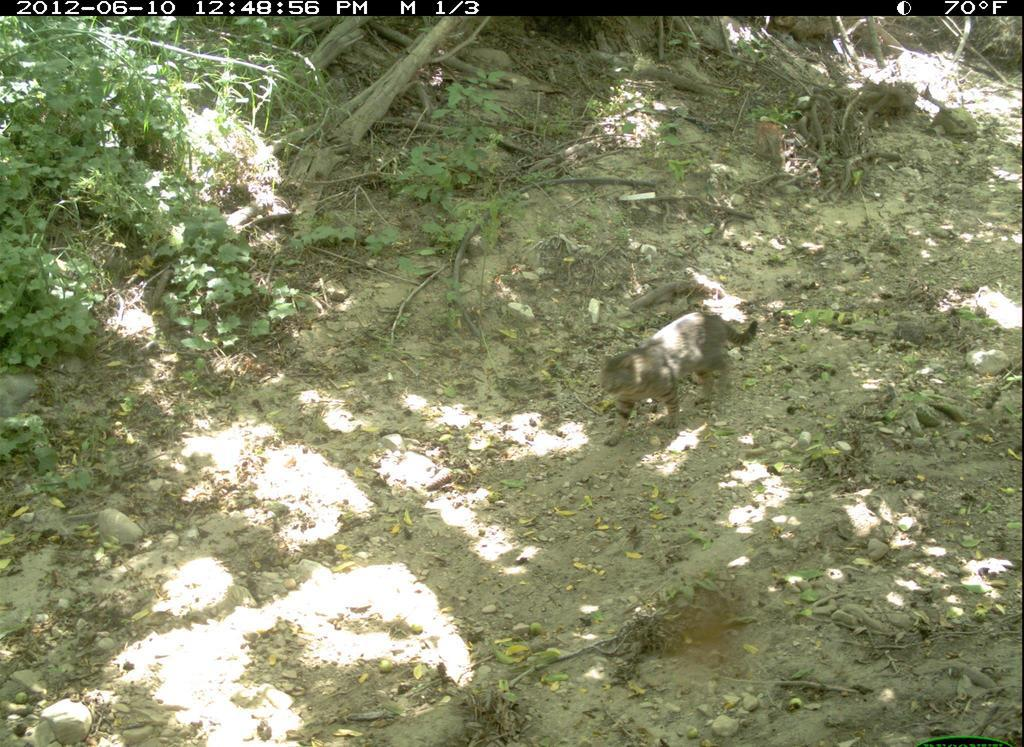cat: (595, 310, 761, 449)
